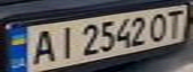2: (75, 20, 103, 56), (127, 12, 151, 47)
4: (115, 15, 136, 49)
5: (97, 17, 118, 53)
A: (24, 26, 60, 65)
I: (51, 24, 78, 61)
O: (145, 10, 172, 43)
T: (163, 7, 190, 38)
